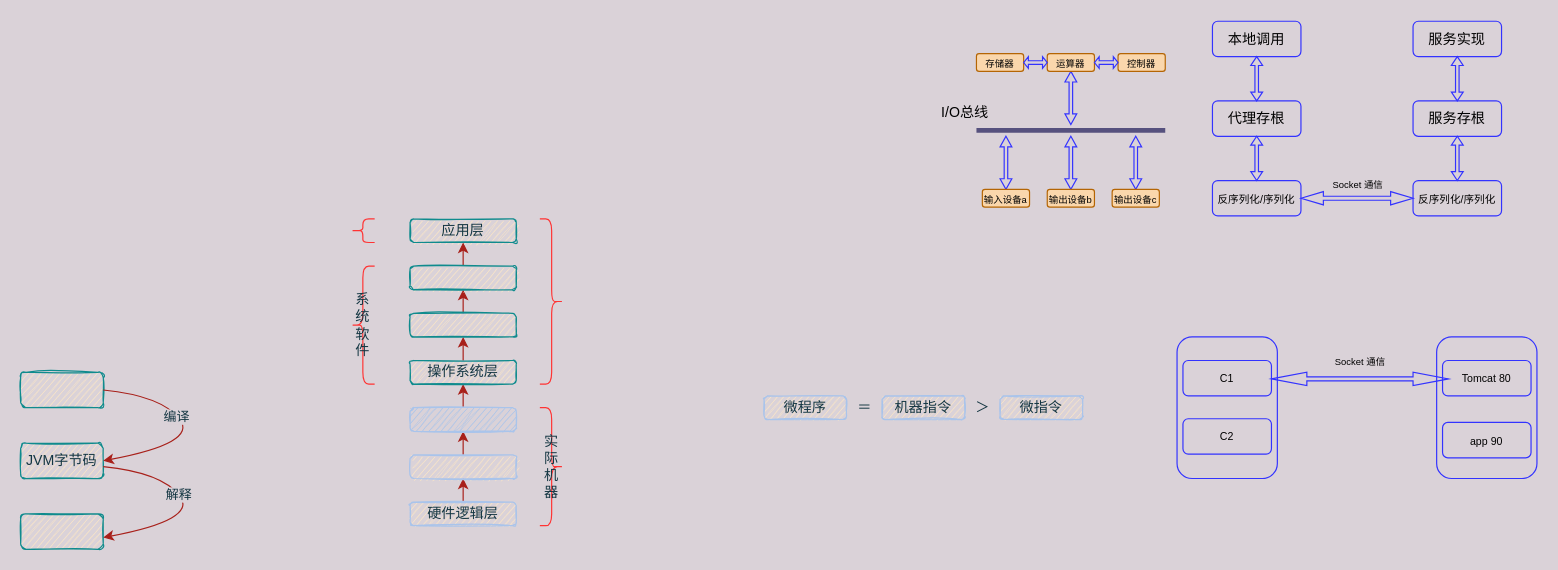
The diagram is 1558 pixels wide and 570 high, and some of its shapes have lost their labels. The box of each missing label's shape, as (x1, y1, x2, y2) in pixels:
Java程序: (19, 371, 103, 408)
传统机器层: (409, 407, 516, 431)
应用软件: (350, 218, 375, 242)
微程序机器层: (409, 454, 516, 478)
机器码: (19, 513, 103, 549)
汇编语言层: (409, 312, 516, 337)
虚拟机器: (539, 218, 563, 384)
高级语言层: (409, 265, 516, 290)
